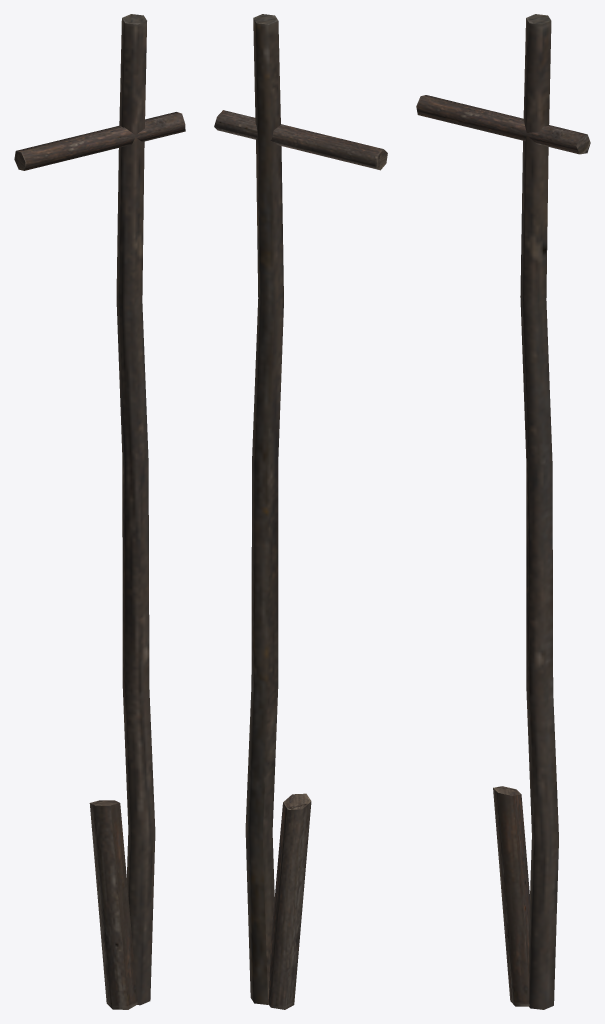
Rendered from b_zx_mulangan03_01.FBX.
3 views of the same model, side by side, from view 1: azimuth 30°, elevation 25°; view 2: azimuth 150°, elevation 25°; view 3: azimuth 330°, elevation 25° (orthographic).
Visible parts, largest first — view 1: b_zx_mulangan03_01; view 2: b_zx_mulangan03_01; view 3: b_zx_mulangan03_01.
Boxes of the visible parts, x1,y1,x2,y2 form: b_zx_mulangan03_01: (14,14,185,1009); b_zx_mulangan03_01: (214,14,387,1009); b_zx_mulangan03_01: (416,14,590,1009).
Size of the model in its own units: 1.75 by 10.02 by 0.2808.
